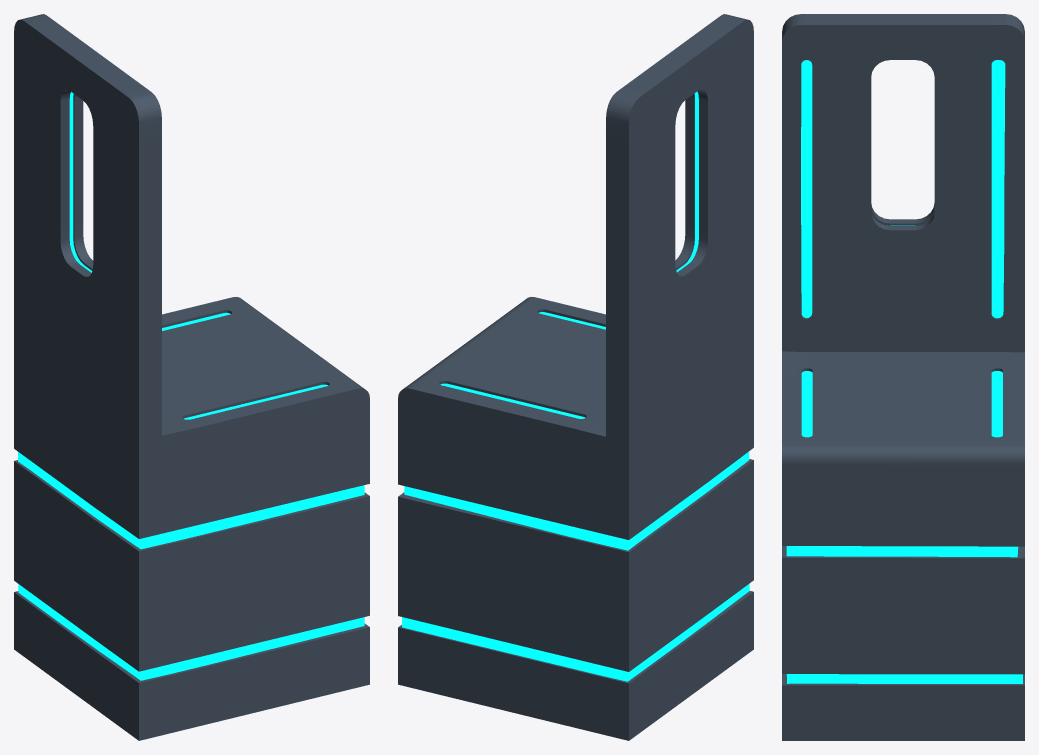
File: Nivel_2-Modulo2.fbx
The picture shows the model from 3 angles, left to right: view 1: azimuth 30°, elevation 25°; view 2: azimuth 150°, elevation 25°; view 3: azimuth 270°, elevation 25°; orthographic projection. The views are drawn at different scales.
Parts seen in each view (by area): view 1: Part2_1, Part2_2; view 2: Part2_1, Part2_2; view 3: Part2_1, Part2_2.
Part boxes in pixels (box(x1,y1,x2,y2)): Part2_1: box(14, 14, 369, 740); Part2_2: box(18, 92, 364, 680); Part2_1: box(398, 14, 753, 740); Part2_2: box(402, 91, 749, 681); Part2_1: box(782, 14, 1024, 740); Part2_2: box(786, 60, 1022, 683).
Size of the model in its own units: 8 by 21.05 by 7.5.
